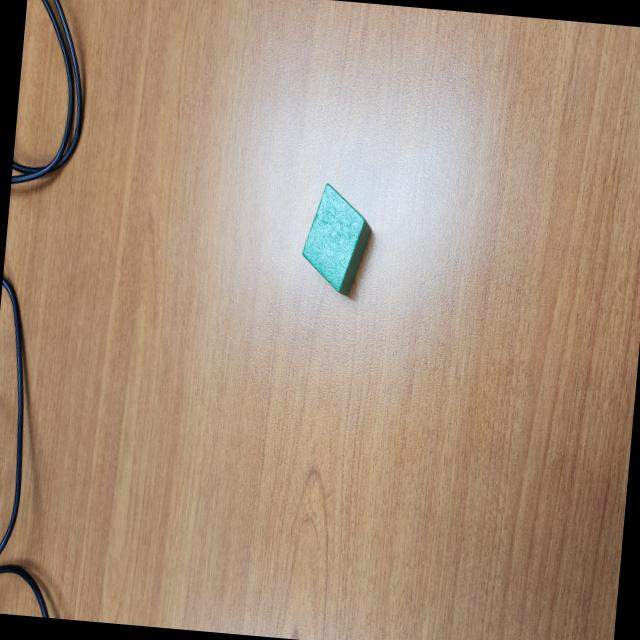green: (299, 182, 376, 298)
